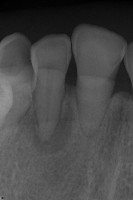Furcation Involvement: (18, 102, 74, 154)
